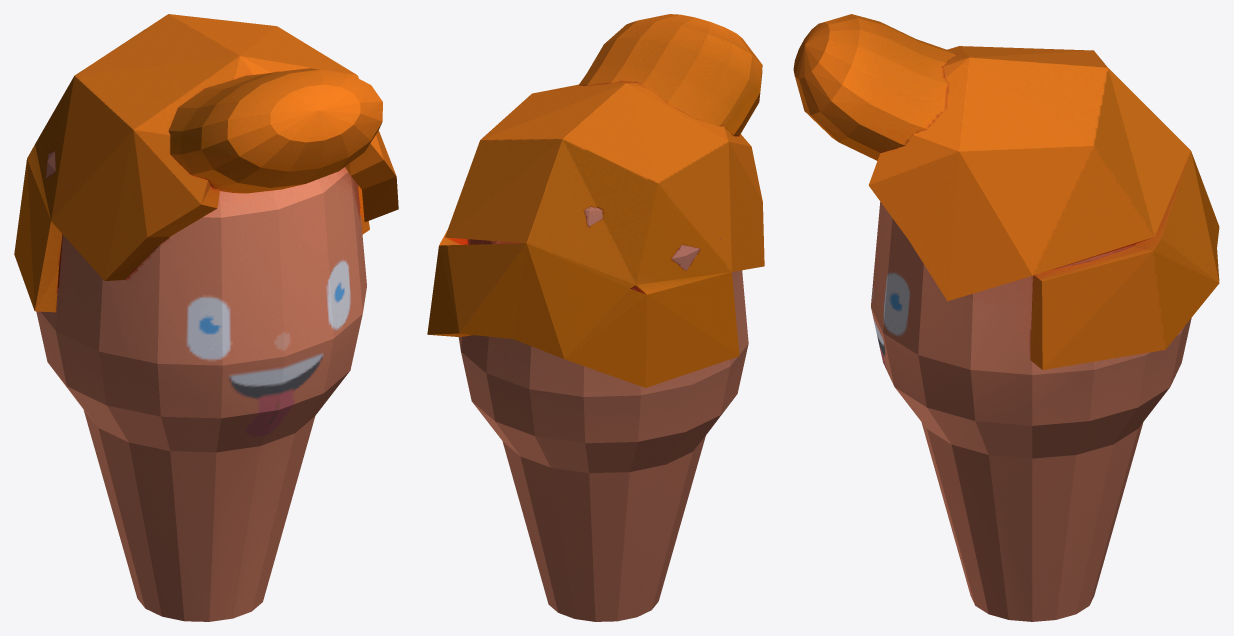
Rendered from head1.glb.
3 renders of one model, left to right at view 1: azimuth 30°, elevation 25°; view 2: azimuth 150°, elevation 25°; view 3: azimuth 270°, elevation 25°, orthographic. The views are drawn at different scales.
Visible parts, largest first — view 1: char1_1; view 2: char1_1; view 3: char1_1.
Part boxes in pixels (box(x1,y1,x2,y2)): char1_1: box(14, 14, 398, 621); char1_1: box(427, 14, 764, 621); char1_1: box(793, 14, 1219, 621).
Bounding box in the file's own units: 1.87 × 3.13 × 2.13.
1 material, 1 textured.
